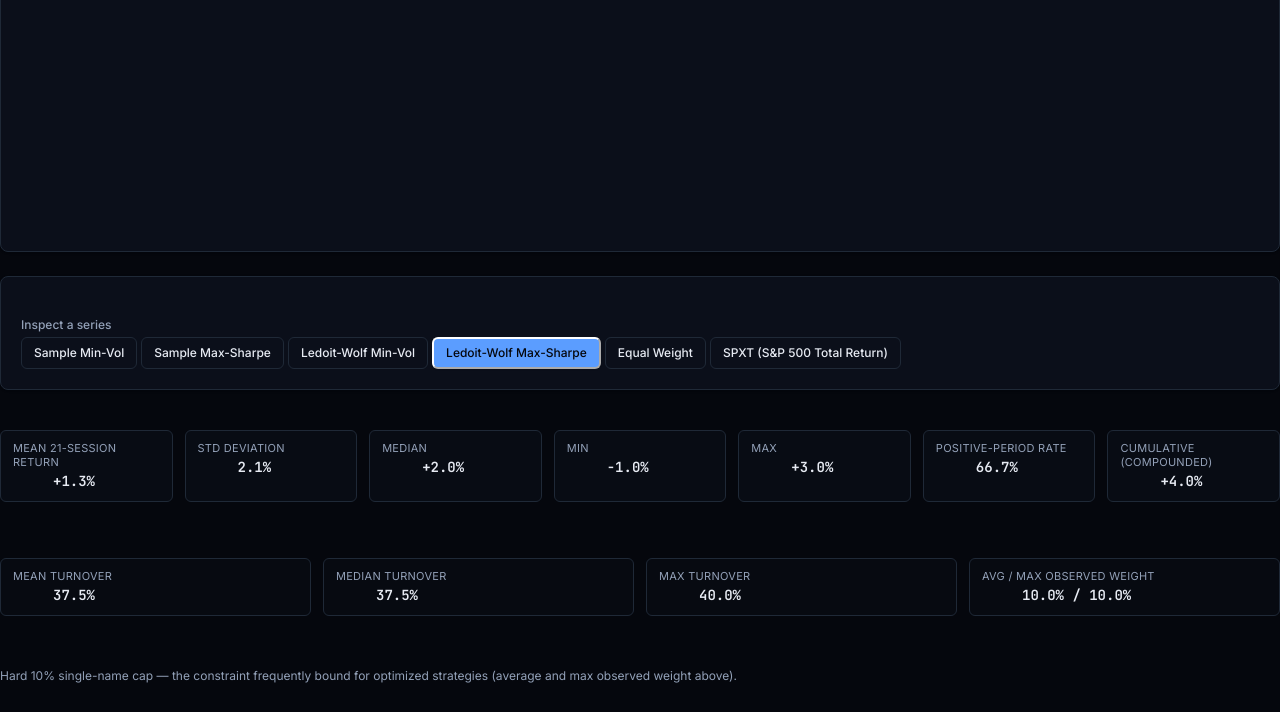
Test case: HistoricalEvidencePage › shows SPXT turnover and concentration as not applicable
(page scrolled)
Click the button "SPXT (S&P 500 Total Return)": (805, 353) [710,337,901,369]
(page scrolled)
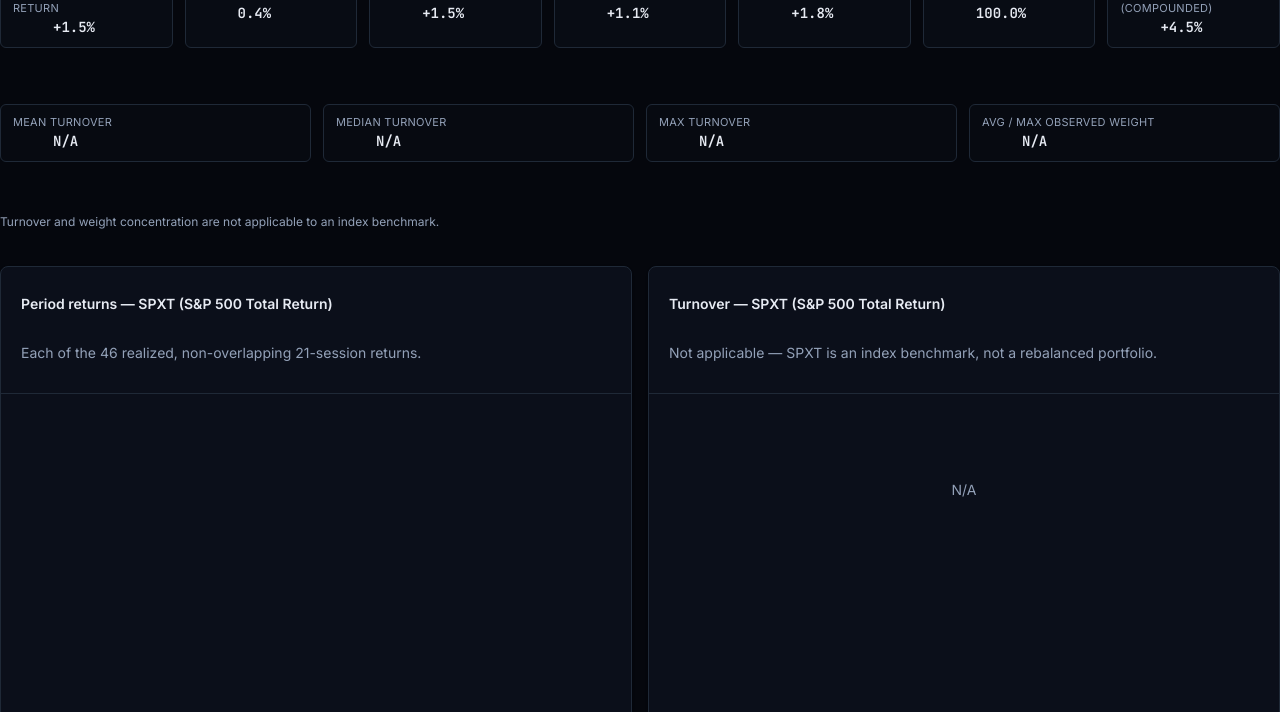
Now the text "N/A" below "Mean turnover" is shown, box [53,132,78,150]
Now the text "Turnover and weight concentration are not applicable to an index benchmark" is shown, box [0,214,439,229]
Now the text "Not applicable — SPXT is an index benchmark" is shown, box [669,344,1157,361]
